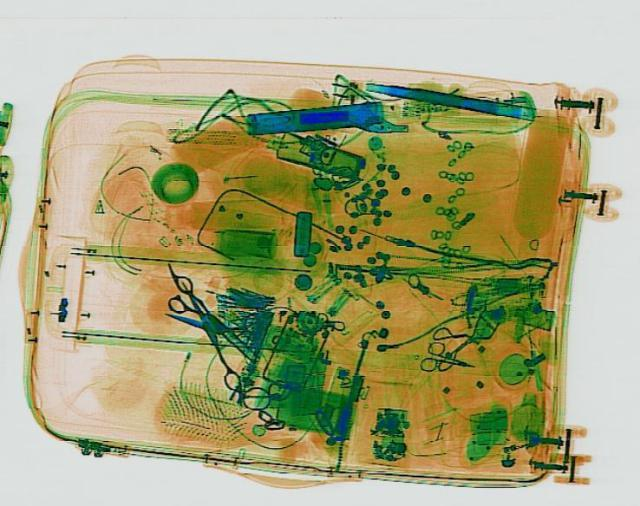Scissors: (148, 269, 270, 366), (415, 338, 479, 378)
